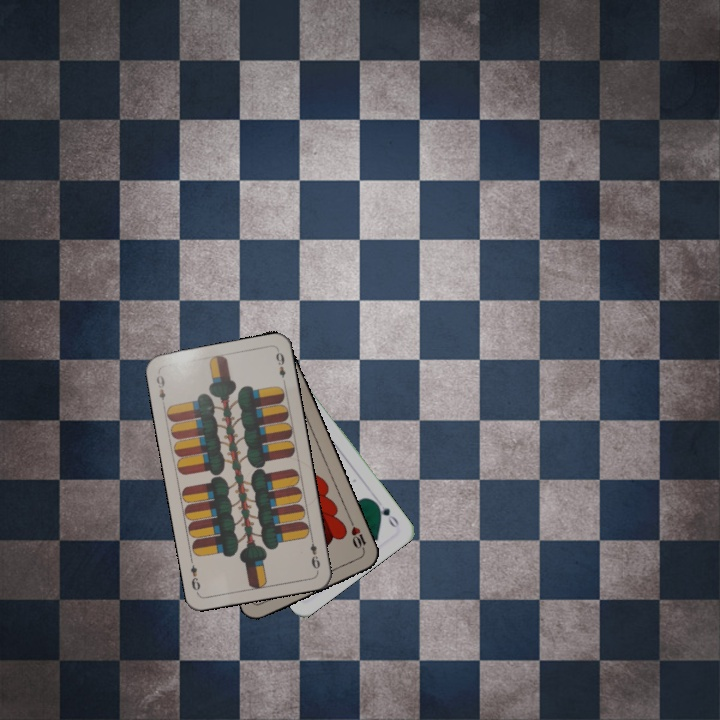E9: (306, 533, 323, 573), (152, 371, 168, 403)
GO: (370, 497, 402, 530)
H10: (346, 517, 369, 556)
